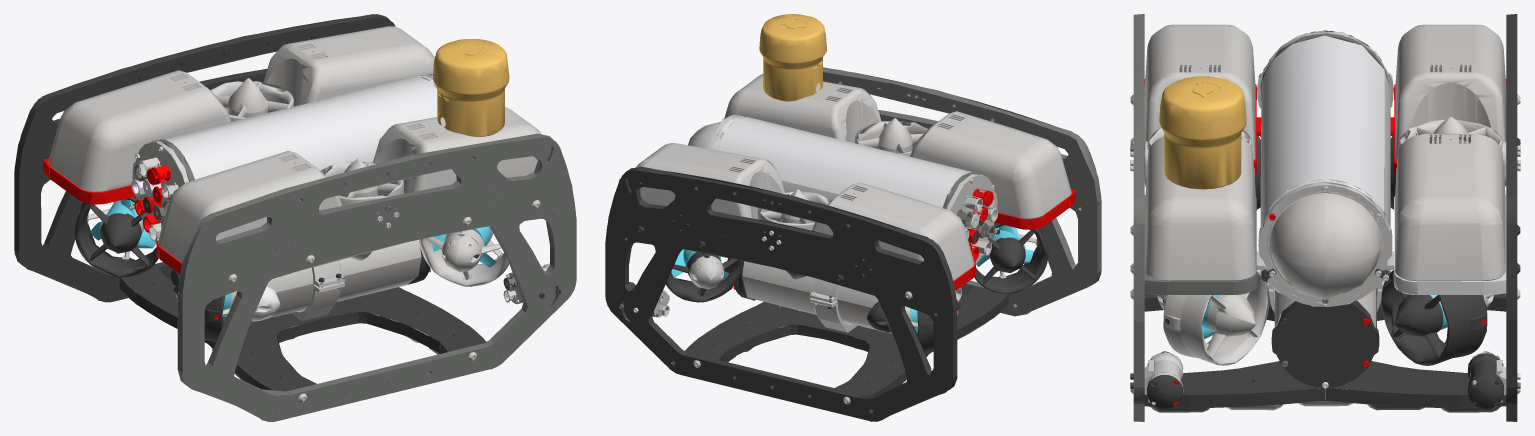
The model's file is bluerov2_underwater_rov.glb.
3 renders of one model, left to right at view 1: azimuth 30°, elevation 25°; view 2: azimuth 150°, elevation 25°; view 3: azimuth 270°, elevation 25°, orthographic. The views are drawn at different scales.
Visible parts, largest first — view 1: bluerov2_syntactic_float_stbd, bluerov2_hdpe_side_panel_right, bluerov2_syntactic_float_port, bluerov2_bulkhead_flange_aft, bluerov2_hdpe_side_panel_left, bluerov2_bulkhead_flange_forward, bluerov2_lumen_subsea_led_array, bluerov2_camera_tilt_gimbal_mount, ping360_sonar, bluerov2_bar30_depth_sensor_module, bluerov2_acrylic_electronics_tube, bluerov2_aluminum_frame_deck (+6 smaller); view 2: bluerov2_hdpe_side_panel_right, bluerov2_syntactic_float_stbd, bluerov2_syntactic_float_port, bluerov2_camera_tilt_gimbal_mount, bluerov2_hdpe_side_panel_left, bluerov2_bulkhead_flange_aft, bluerov2_lumen_subsea_led_array, bluerov2_bulkhead_flange_forward, ping360_sonar, bluerov2_bar30_depth_sensor_module, bluerov2_aluminum_frame_deck, bluerov2_acrylic_electronics_tube (+5 smaller); view 3: bluerov2_syntactic_float_port, bluerov2_bulkhead_flange_forward, bluerov2_camera_tilt_gimbal_mount, bluerov2_lumen_subsea_led_array, bluerov2_bulkhead_flange_aft, bluerov2_hdpe_side_panel_left, ping360_sonar, bluerov2_battery_enclosure_tube, bluerov2_acrylic_electronics_tube, bluerov2_ballast_rail_stbd, bluerov2_syntactic_float_stbd, bluerov2_hdpe_side_panel_right (+5 smaller).
Part boxes in pixels (<box>): bluerov2_syntactic_float_stbd: <box>134,133,576,421</box>; bluerov2_hdpe_side_panel_right: <box>14,14,561,342</box>; bluerov2_syntactic_float_port: <box>131,75,437,320</box>; bluerov2_bulkhead_flange_aft: <box>48,70,516,360</box>; bluerov2_hdpe_side_panel_left: <box>119,199,544,396</box>; bluerov2_bulkhead_flange_forward: <box>222,26,481,322</box>; bluerov2_lumen_subsea_led_array: <box>161,78,541,315</box>; bluerov2_camera_tilt_gimbal_mount: <box>135,151,519,402</box>; ping360_sonar: <box>433,39,509,136</box>; bluerov2_bar30_depth_sensor_module: <box>164,113,509,322</box>; bluerov2_acrylic_electronics_tube: <box>74,188,425,292</box>; bluerov2_aluminum_frame_deck: <box>312,158,549,303</box>; bluerov2_hdpe_side_panel_right: <box>605,166,1048,421</box>; bluerov2_syntactic_float_stbd: <box>619,67,1101,361</box>; bluerov2_syntactic_float_port: <box>633,116,979,312</box>; bluerov2_camera_tilt_gimbal_mount: <box>688,111,1071,250</box>; bluerov2_hdpe_side_panel_left: <box>685,230,1008,398</box>; bluerov2_bulkhead_flange_aft: <box>658,174,997,332</box>; bluerov2_lumen_subsea_led_array: <box>691,74,995,404</box>; bluerov2_bulkhead_flange_forward: <box>636,114,1037,305</box>; ping360_sonar: <box>759,14,826,101</box>; bluerov2_bar30_depth_sensor_module: <box>693,207,998,367</box>; bluerov2_aluminum_frame_deck: <box>633,118,928,305</box>; bluerov2_acrylic_electronics_tube: <box>629,240,961,351</box>; bluerov2_syntactic_float_port: <box>1151,35,1520,405</box>; bluerov2_bulkhead_flange_forward: <box>1130,59,1520,402</box>; bluerov2_camera_tilt_gimbal_mount: <box>1130,24,1520,299</box>; bluerov2_lumen_subsea_led_array: <box>1130,116,1520,406</box>; bluerov2_bulkhead_flange_aft: <box>1130,24,1506,393</box>; bluerov2_hdpe_side_panel_left: <box>1130,293,1506,408</box>; ping360_sonar: <box>1159,76,1246,189</box>; bluerov2_battery_enclosure_tube: <box>1147,138,1520,408</box>; bluerov2_acrylic_electronics_tube: <box>1165,136,1520,404</box>; bluerov2_ballast_rail_stbd: <box>1130,145,1520,376</box>; bluerov2_syntactic_float_stbd: <box>1133,14,1520,421</box>; bluerov2_hdpe_side_panel_right: <box>1130,14,1520,421</box>.
Size of the model in its own units: 0.4576 by 0.3262 by 0.3442.
